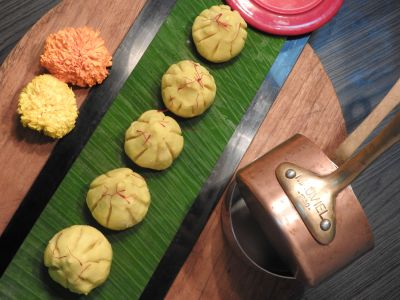modak: (43, 229, 114, 296), (122, 108, 188, 170), (165, 57, 225, 124), (194, 4, 251, 61), (92, 172, 149, 224)
